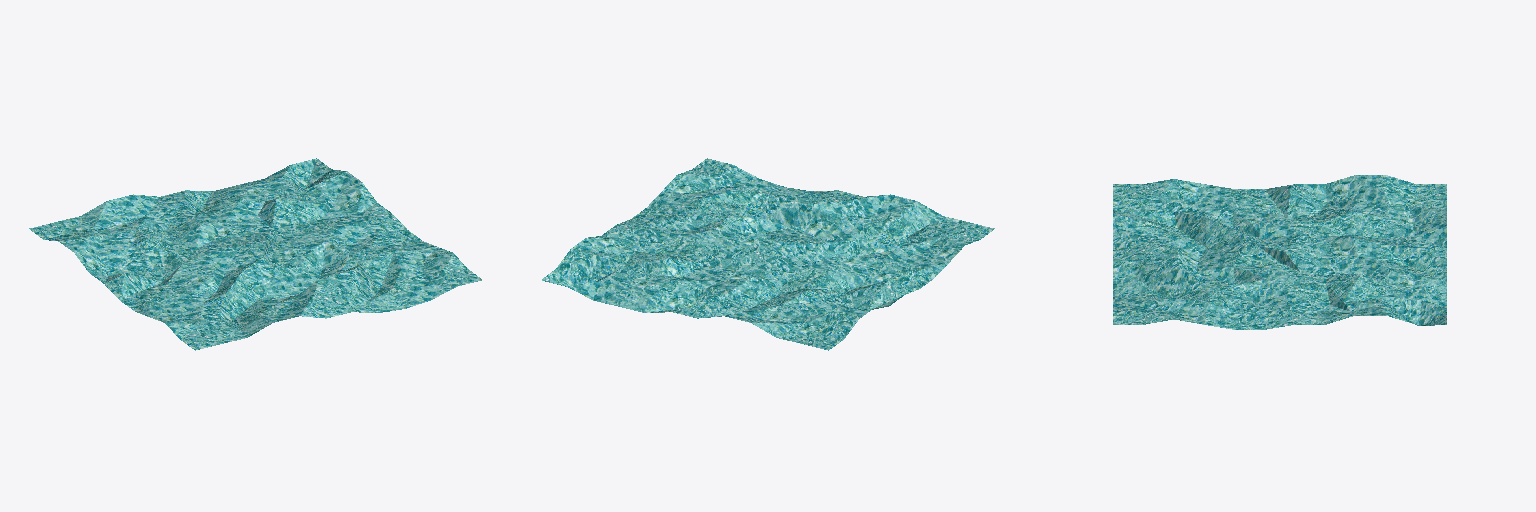
The picture shows the model from 3 angles: view 1: azimuth 30°, elevation 25°; view 2: azimuth 150°, elevation 25°; view 3: azimuth 270°, elevation 25°; orthographic projection.
Visible parts, largest first — view 1: Plane; view 2: Plane; view 3: Plane.
Boxes of the visible parts, <box> form: Plane: <box>29,158,481,350</box>; Plane: <box>542,158,994,350</box>; Plane: <box>1113,175,1446,329</box>.
Size of the model in its own units: 2 by 0.1624 by 2.
1 materials, 1 textured.